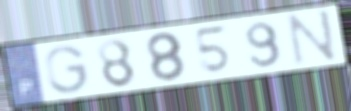5: (192, 25, 235, 77)
8: (144, 30, 188, 84), (95, 37, 137, 89)
9: (244, 19, 285, 70)
G: (43, 44, 90, 97)
N: (286, 7, 339, 68)
